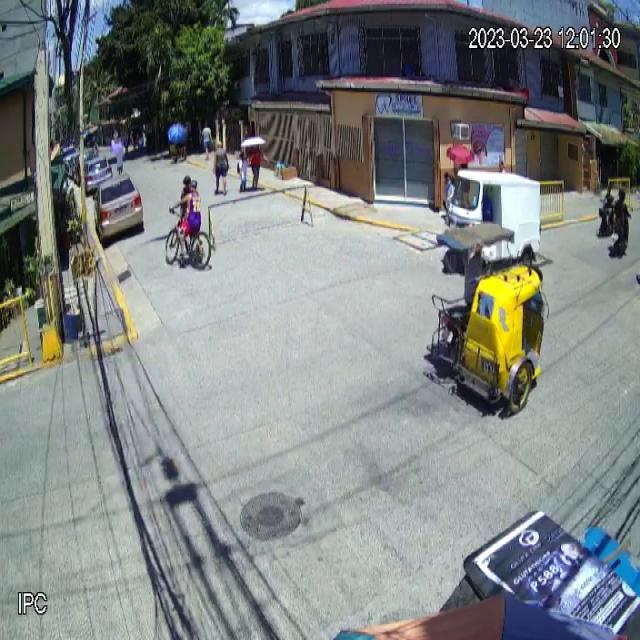Tricycle: (426, 221, 550, 413)
